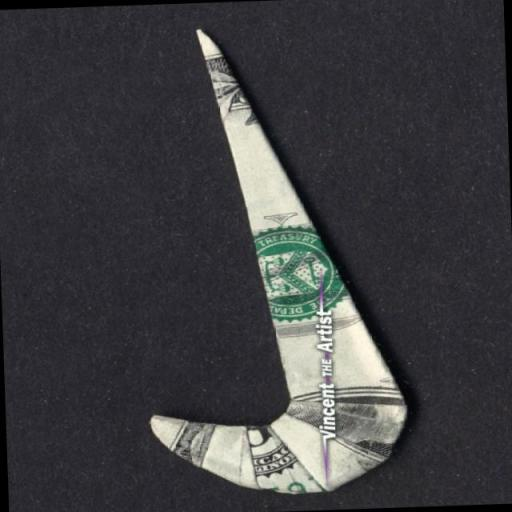Nike: (138, 16, 413, 498)
